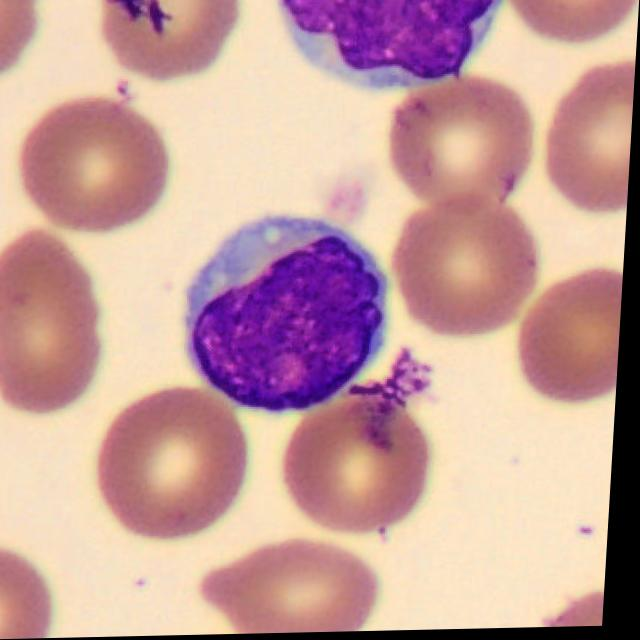Linfocito: (188, 221, 418, 418)
